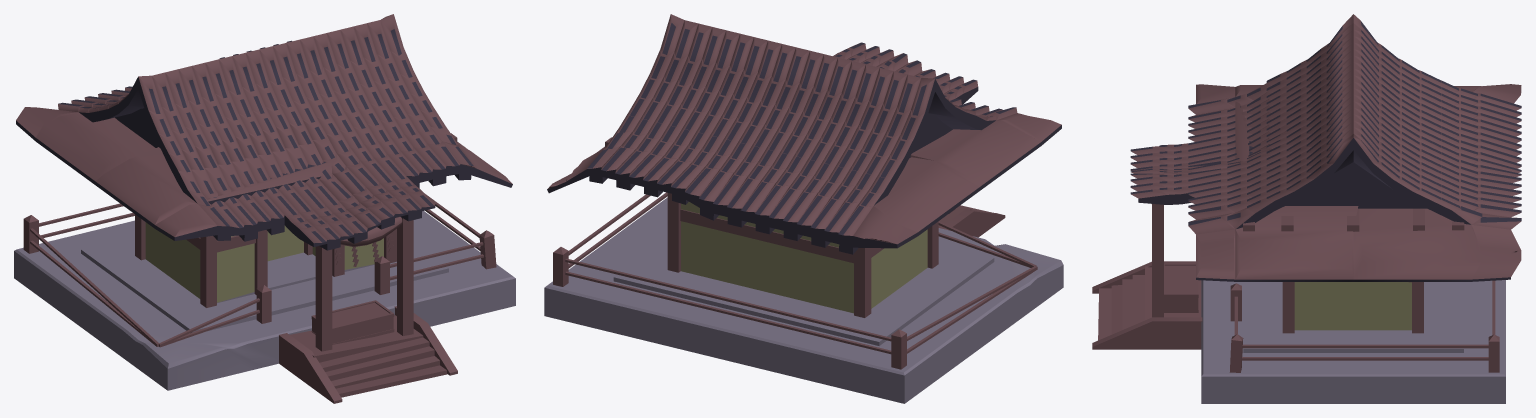
The model's file is Temple_large_01.fbx.
3 renders of one model, left to right at view 1: azimuth 30°, elevation 25°; view 2: azimuth 150°, elevation 25°; view 3: azimuth 270°, elevation 25°, orthographic. The views are drawn at different scales.
Visible parts, largest first — view 1: Temple_large_01; view 2: Temple_large_01; view 3: Temple_large_01.
Boxes of the visible parts, bbox=[...] form: Temple_large_01: bbox=[14, 14, 515, 403]; Temple_large_01: bbox=[544, 14, 1063, 403]; Temple_large_01: bbox=[1092, 14, 1521, 403].
Bounding box in the file's own units: 920 × 631 × 991.
